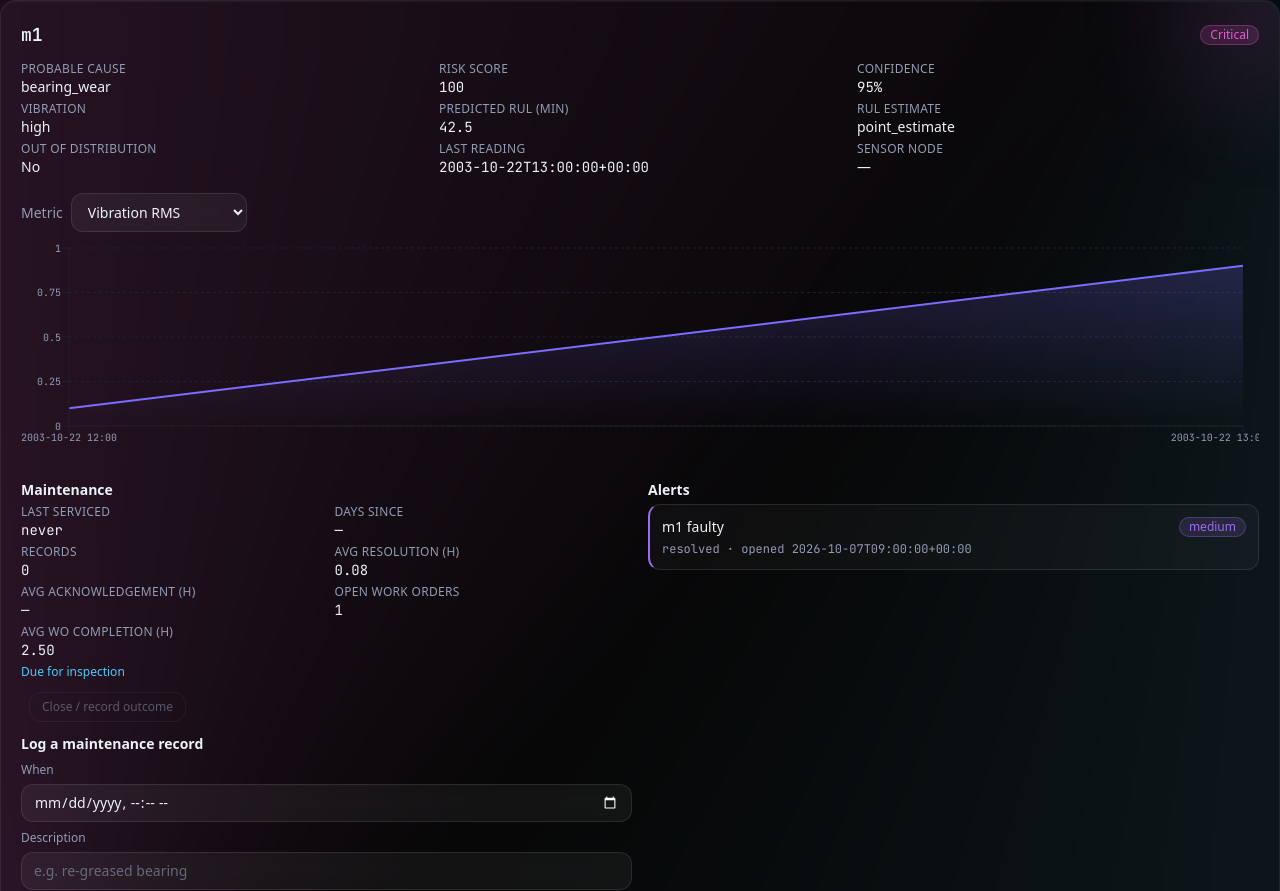
Test: MachineDetail › close / record outcome › reads "Record outcome" for a resolved alert without feedback
Click the text "m1 faulty": point(693, 527) [662,517,724,537]
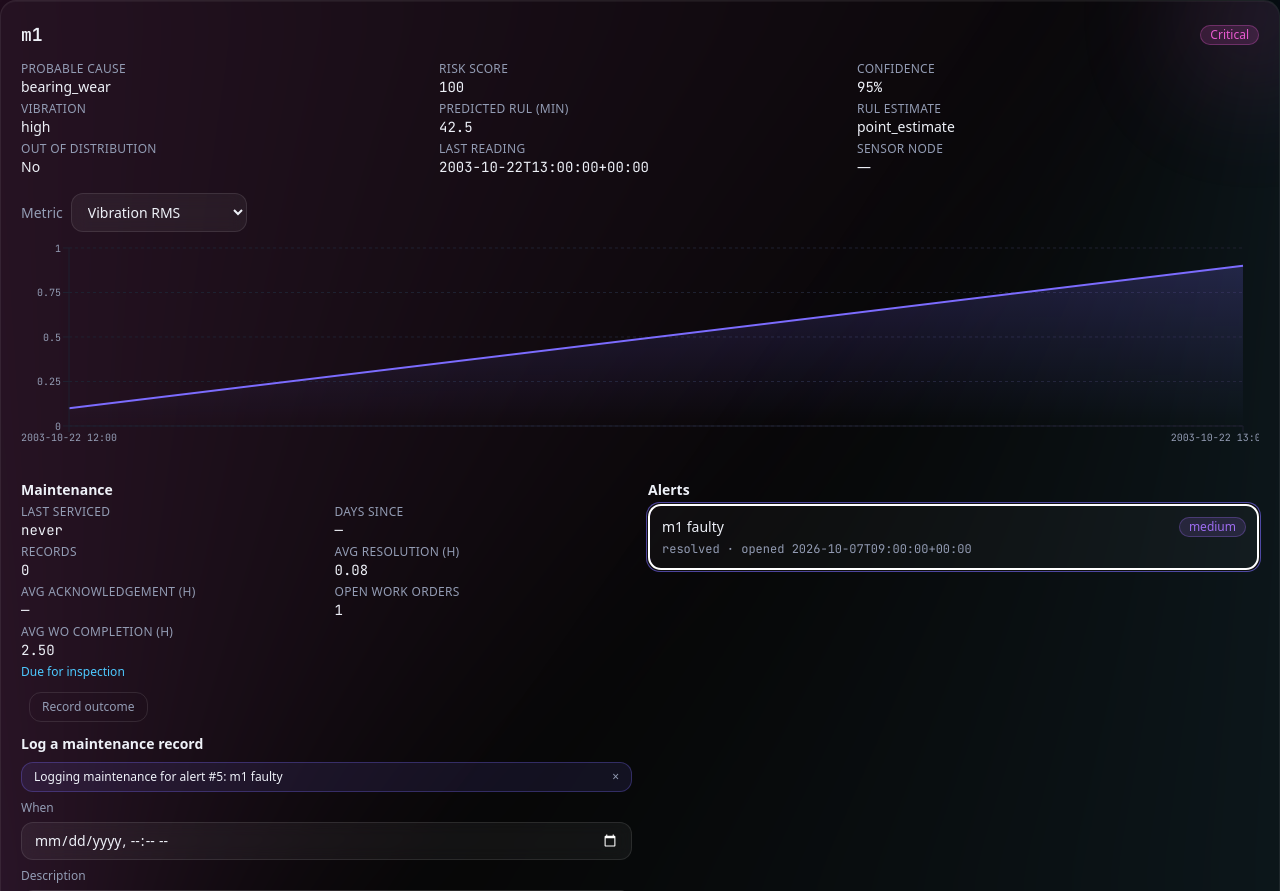
Result: the button "Record outcome" is enabled at [29,692,148,722]
